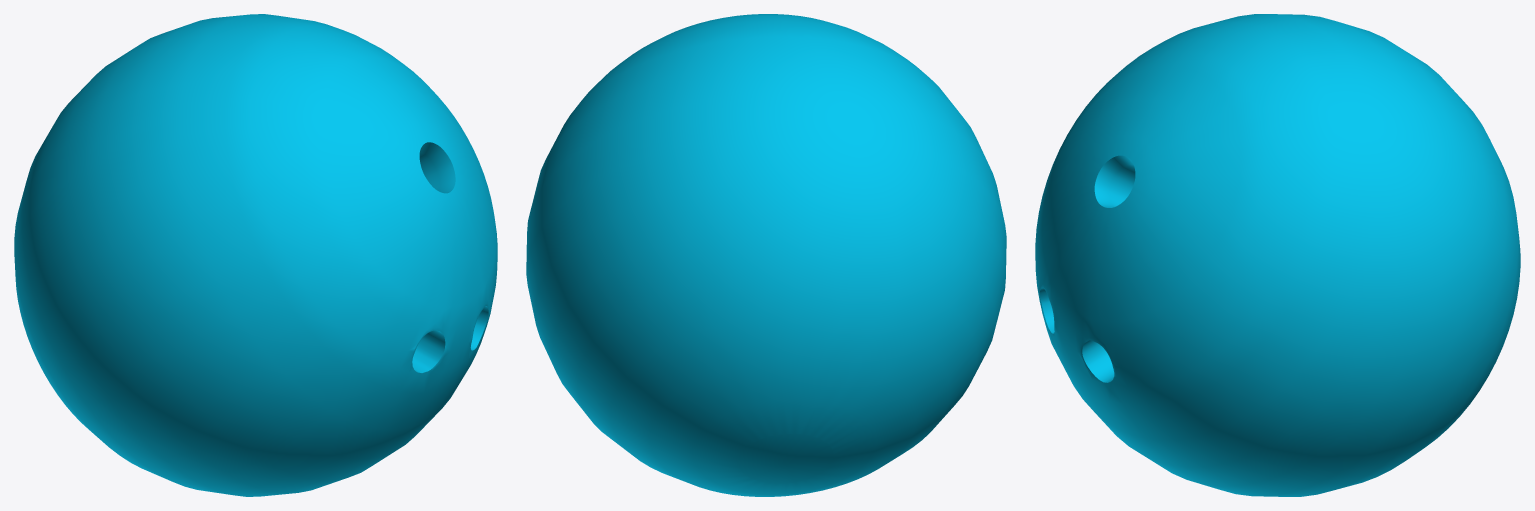
The model's file is Ball.glb.
3 renders of one model, left to right at view 1: azimuth 30°, elevation 25°; view 2: azimuth 150°, elevation 25°; view 3: azimuth 270°, elevation 25°, orthographic.
Parts seen in each view (by area): view 1: ball__1_; view 2: ball__1_; view 3: ball__1_.
Boxes of the visible parts, x1,y1,x2,y2 form: ball__1_: [14, 14, 497, 496]; ball__1_: [526, 14, 1006, 496]; ball__1_: [1035, 14, 1520, 496].
Size of the model in its own units: 0.0101 by 0.0102 by 0.0102.
